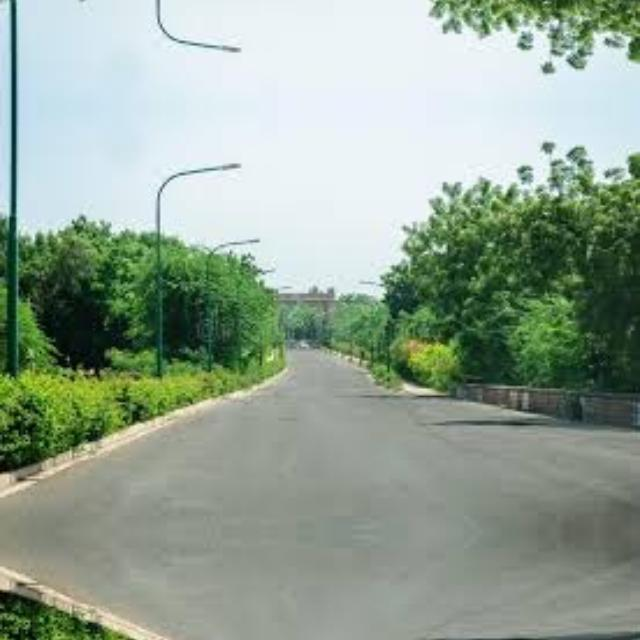obstacle: (135, 168, 189, 374), (135, 0, 189, 46)
